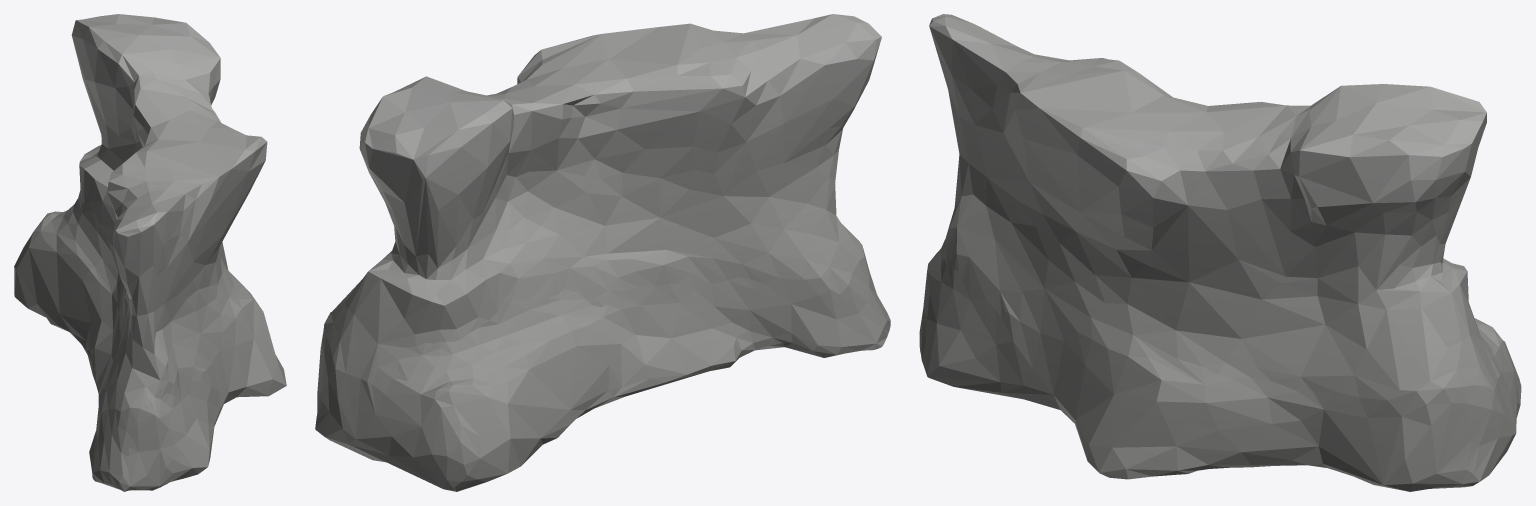
File: Cavern_Wall_Angle-02.fbx
3 renders of one model, left to right at view 1: azimuth 30°, elevation 25°; view 2: azimuth 150°, elevation 25°; view 3: azimuth 270°, elevation 25°, orthographic. The views are drawn at different scales.
Parts seen in each view (by area): view 1: Cavern_Wall_Angle-02; view 2: Cavern_Wall_Angle-02; view 3: Cavern_Wall_Angle-02.
Boxes of the visible parts, left/top/right/bottom form: Cavern_Wall_Angle-02: left=14, top=14, right=286, bottom=491; Cavern_Wall_Angle-02: left=315, top=14, right=890, bottom=491; Cavern_Wall_Angle-02: left=919, top=14, right=1521, bottom=491.
Size of the model in its own units: 1435 by 1286 by 1991.
1 material, 1 textured.
